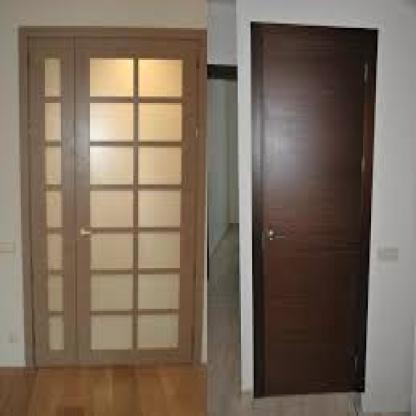door: (19, 33, 198, 363), (249, 26, 361, 388)
